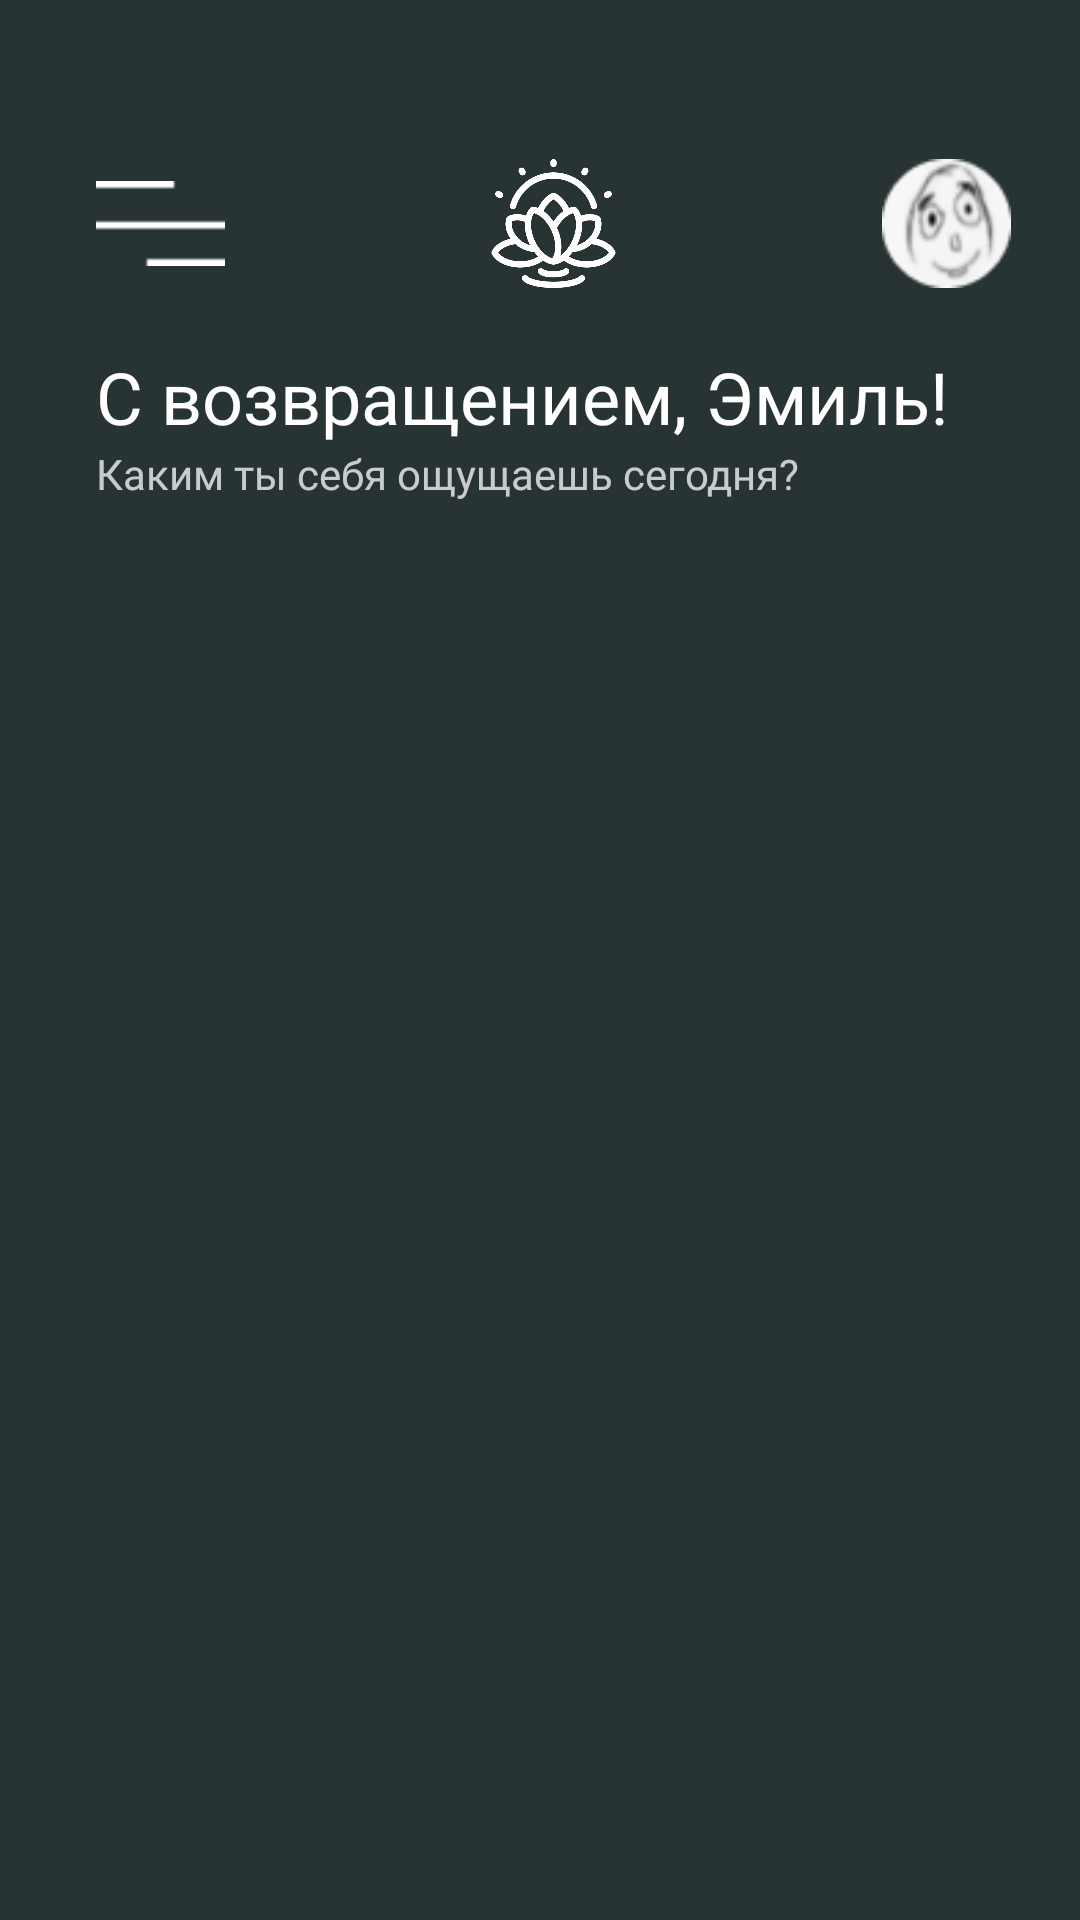

Icons on this 1080px×1920px Android screen, each with its box as (x1, y1, x2, y2):
lotos: (491, 159, 616, 288)
profilepicture: (882, 159, 1011, 288)
